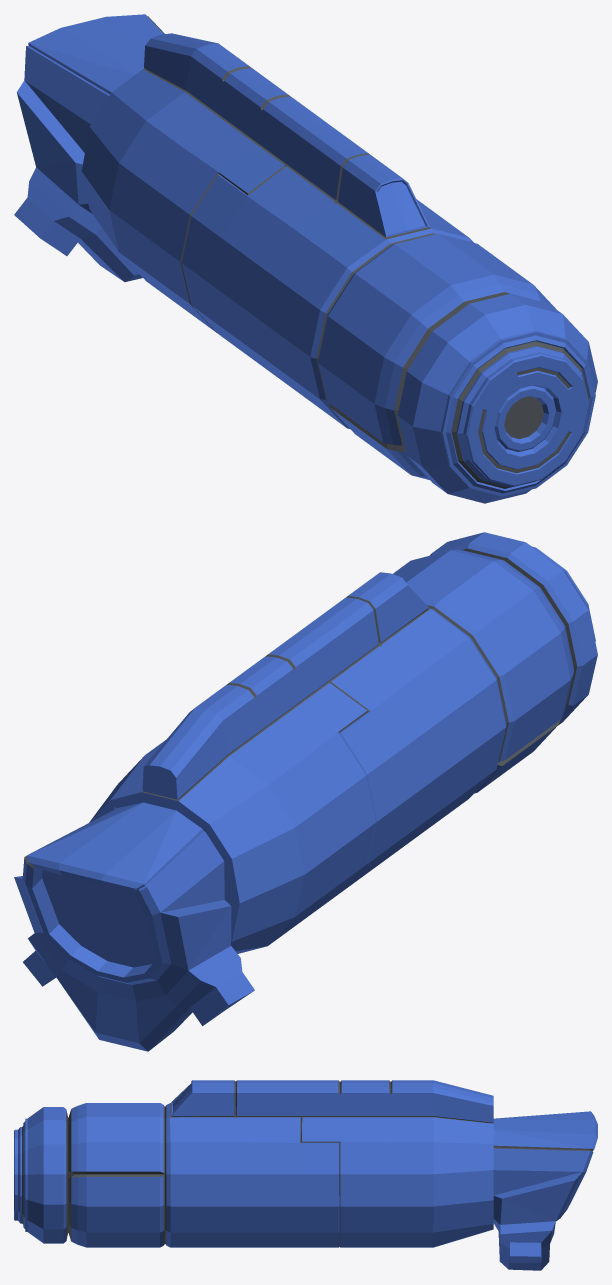
Rendered from Personal_Vehicle_03_Body_Blue.fbx.
3 renders of one model, top to bottom at view 1: azimuth 30°, elevation 25°; view 2: azimuth 150°, elevation 25°; view 3: azimuth 270°, elevation 25°, orthographic. The views are drawn at different scales.
Parts seen in each view (by area): view 1: Personal_Vehicle_03_Body_Blue; view 2: Personal_Vehicle_03_Body_Blue; view 3: Personal_Vehicle_03_Body_Blue.
Part boxes in pixels (x1=…): Personal_Vehicle_03_Body_Blue: x1=14, y1=14, x2=597, y2=503; Personal_Vehicle_03_Body_Blue: x1=14, y1=532, x2=597, y2=1051; Personal_Vehicle_03_Body_Blue: x1=14, y1=1080, x2=597, y2=1270.
Size of the model in its own units: 78.2 by 98.69 by 290.
Materials: 2 (2 with a texture image).
